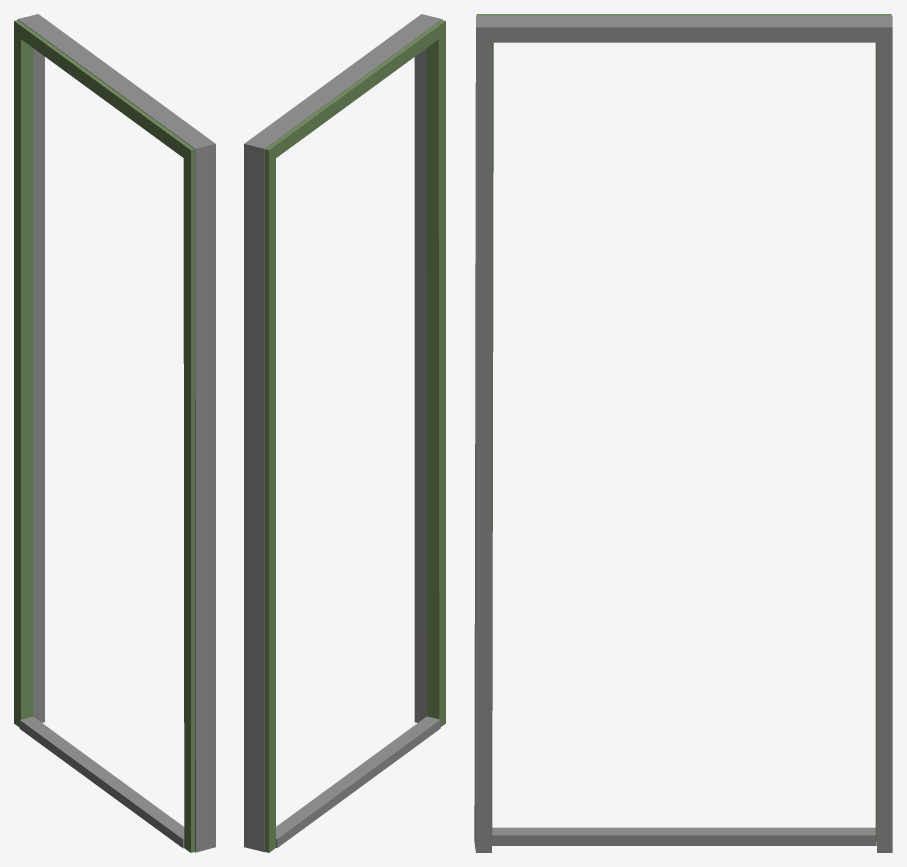
Rendered from 2059_Frame.glb.
3 views of the same model, side by side, from view 1: azimuth 30°, elevation 25°; view 2: azimuth 150°, elevation 25°; view 3: azimuth 270°, elevation 25° (orthographic). The views are drawn at different scales.
Visible parts, largest first — view 1: 2059_Frame; view 2: 2059_Frame; view 3: 2059_Frame.
Boxes of the visible parts, x1=… form: 2059_Frame: x1=14, y1=14, x2=215, y2=852; 2059_Frame: x1=244, y1=14, x2=445, y2=852; 2059_Frame: x1=474, y1=14, x2=892, y2=852.
Size of the model in its own units: 0.0821 by 2.13 by 0.9766.
